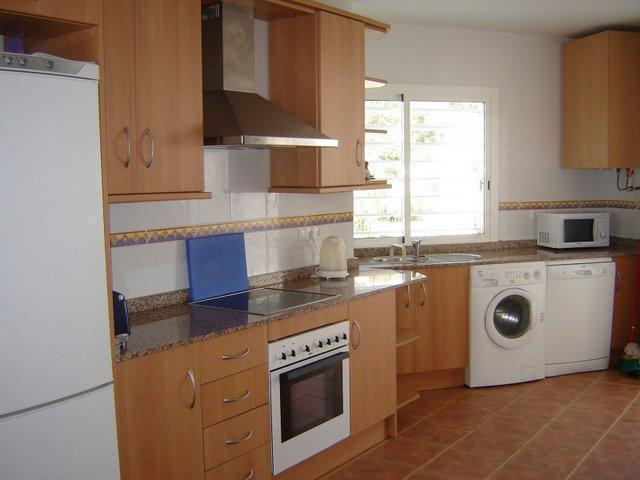Electrodomestico: (3, 56, 120, 476), (246, 286, 350, 460), (471, 256, 547, 385), (543, 246, 616, 374)
Lavaplatos: (378, 232, 445, 279)
Ventana: (363, 99, 488, 233)
